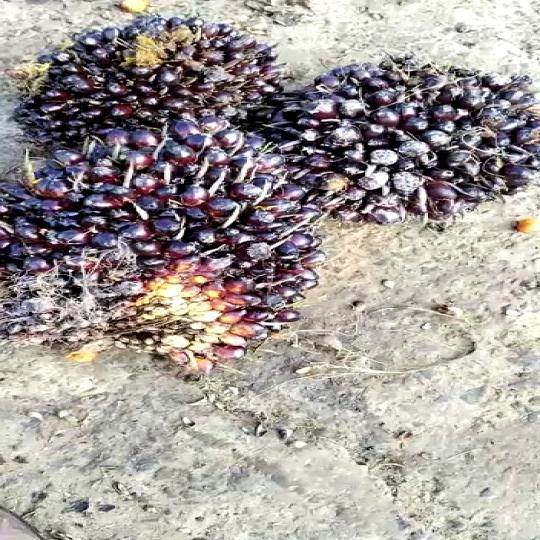kurang masak: (0, 113, 325, 380), (283, 49, 540, 230), (29, 14, 264, 158)
